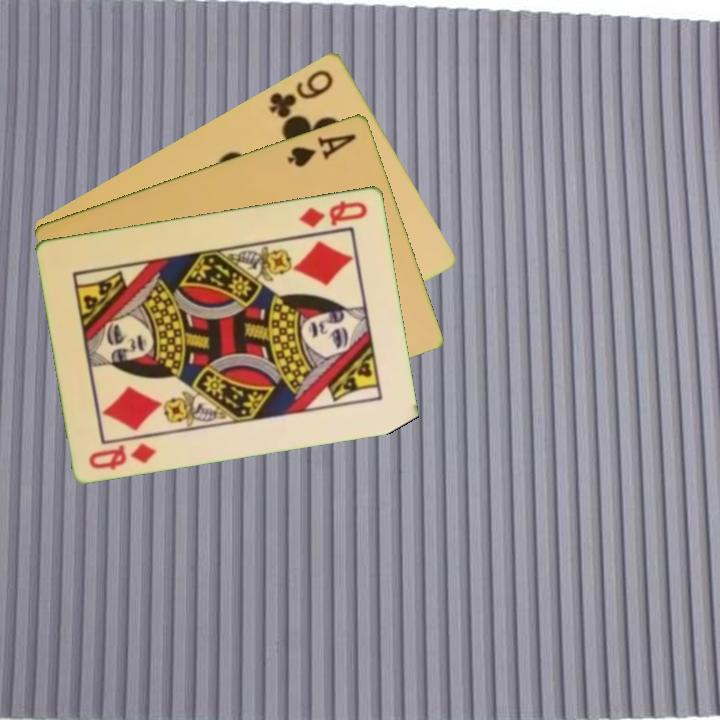9c: (265, 65, 337, 121)
As: (284, 129, 360, 170)
Qd: (296, 196, 371, 230), (85, 439, 159, 472)
